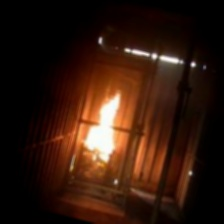fire: (77, 81, 131, 165)
